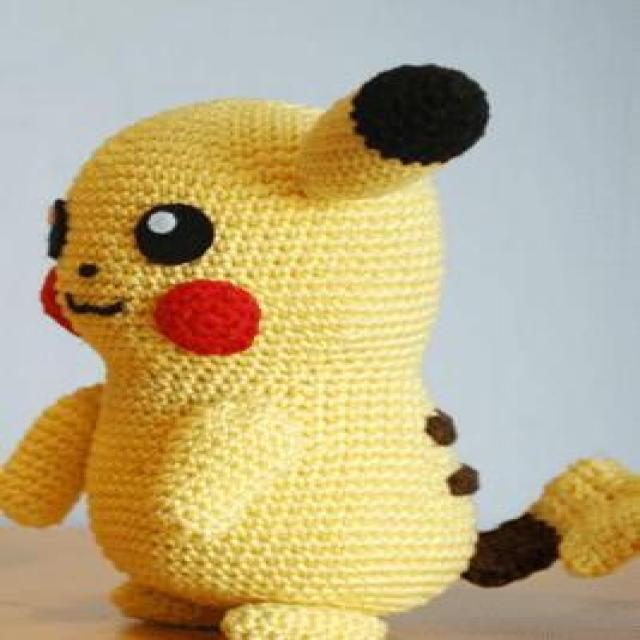pikachu: (4, 66, 637, 638)
